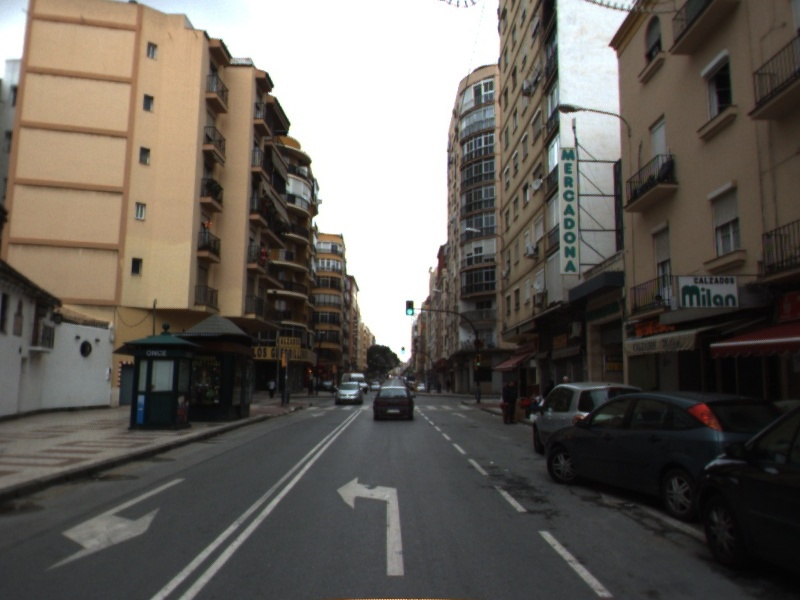LEFT: (335, 475, 405, 577)
